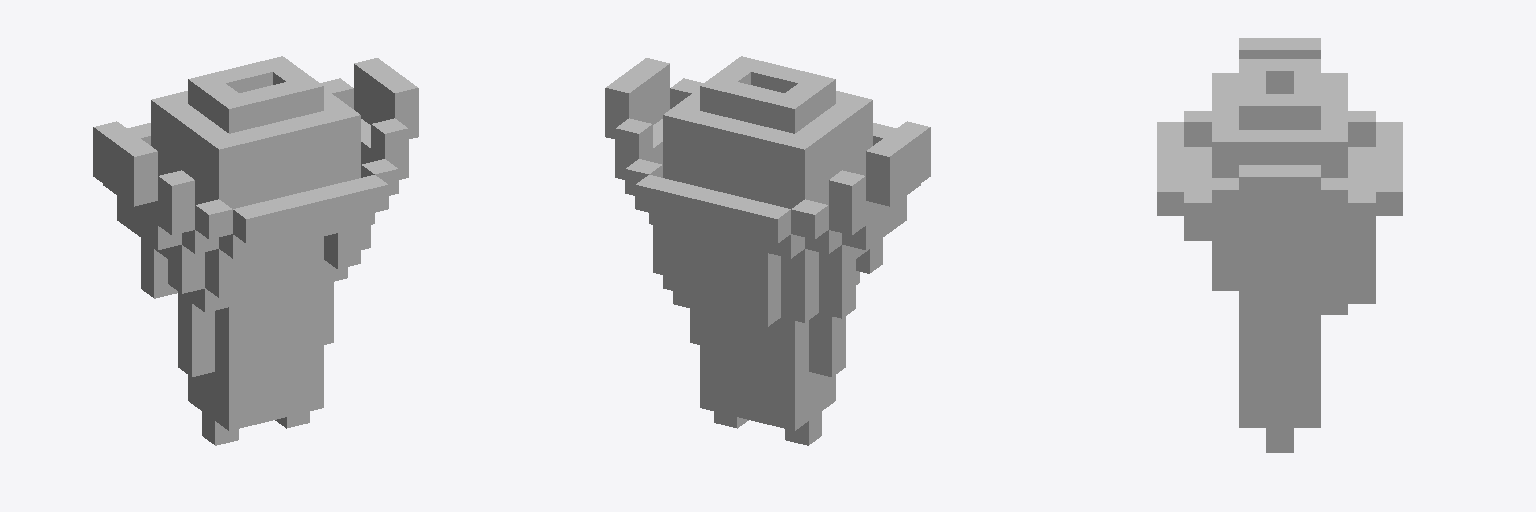
Rendered from zombie.obj.
3 views of the same model, side by side, from view 1: azimuth 30°, elevation 25°; view 2: azimuth 150°, elevation 25°; view 3: azimuth 270°, elevation 25° (orthographic).
Bounding box in the file's own units: 12 × 14 × 9.